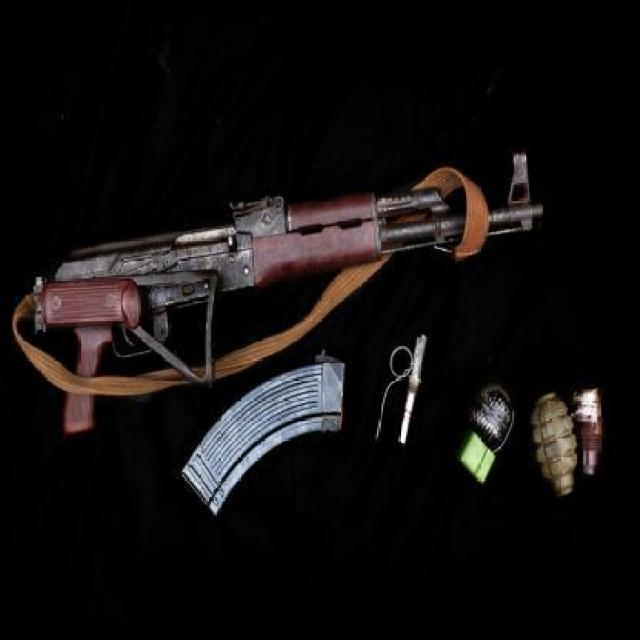Grenade: (458, 380, 516, 498), (526, 392, 579, 497)
Rifle: (29, 152, 545, 434)
